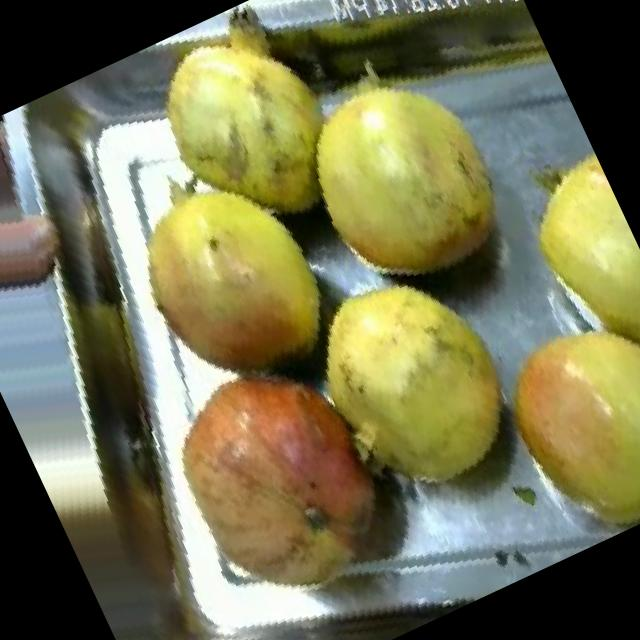fruit: (119, 301, 449, 640), (241, 9, 562, 346), (262, 216, 574, 556), (80, 121, 384, 442), (107, 0, 390, 284), (430, 266, 640, 574), (480, 135, 640, 363)
